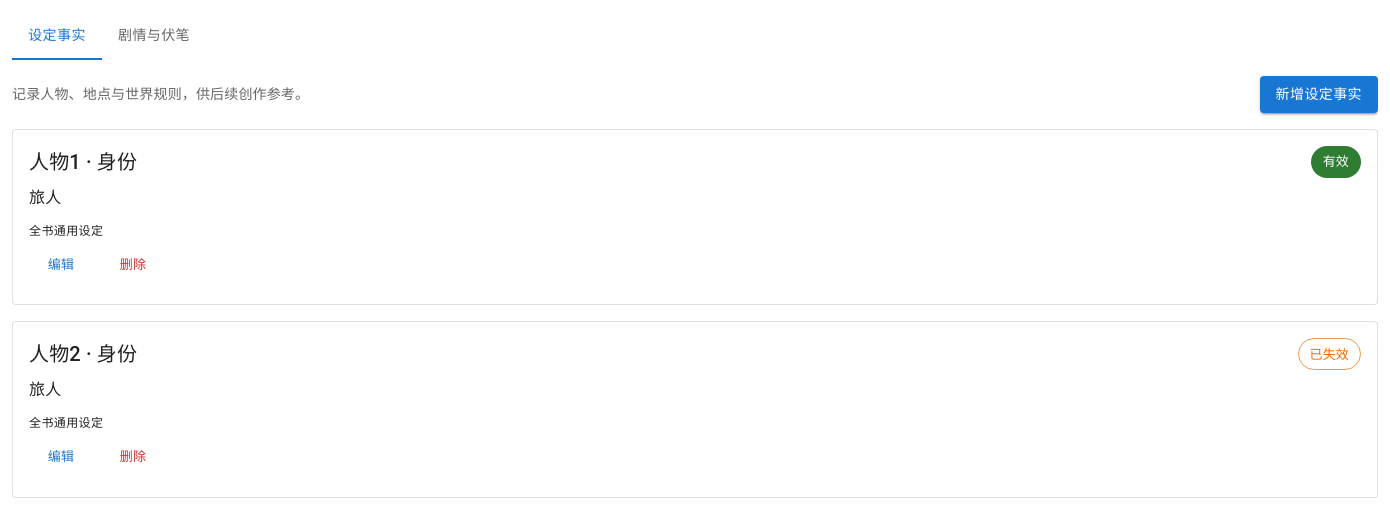
Scenario: 设定账本作者操作 › 批1：账本四态按状态色语义表分流，不再全灰
This screenshot has width=1390, height=515.
Expected: the heading "人物1 · 身份" is shown, [29,146,137,178]
Click the tab "剧情与伏笔": (154, 36) [102,12,206,60]
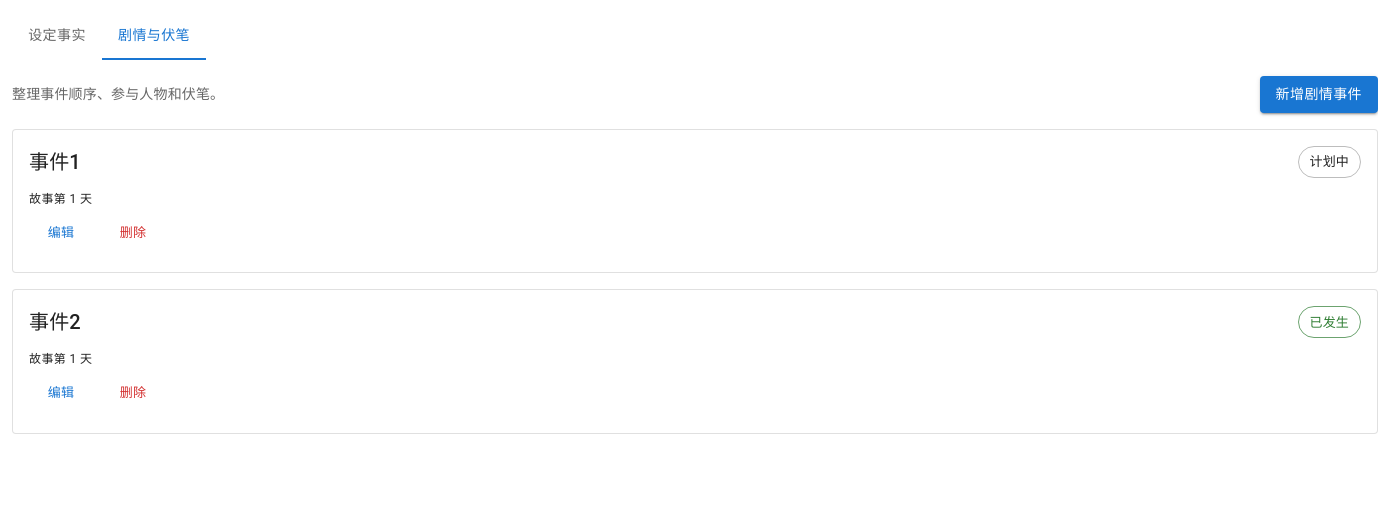
Expected: the heading "事件1" is shown, [29,146,81,178]
